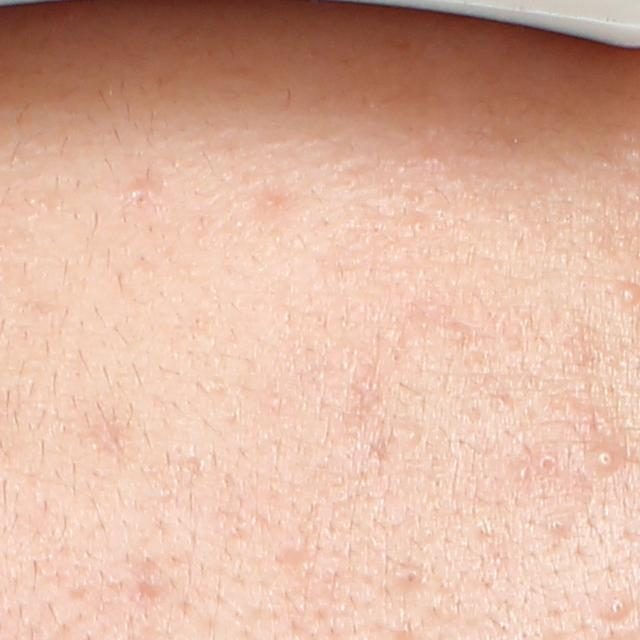comedo: (603, 590, 632, 619), (534, 450, 560, 476), (616, 281, 640, 307), (398, 566, 422, 587), (404, 425, 423, 443)
